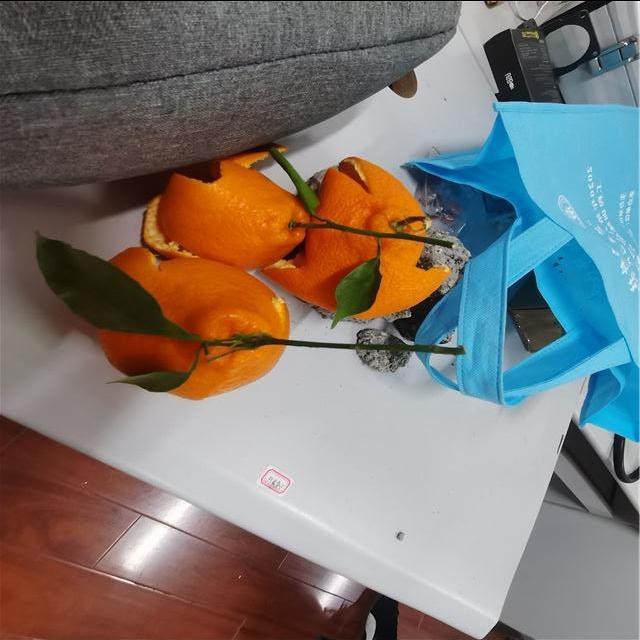orange peel: (79, 231, 292, 427), (294, 163, 484, 343), (135, 129, 330, 267)
